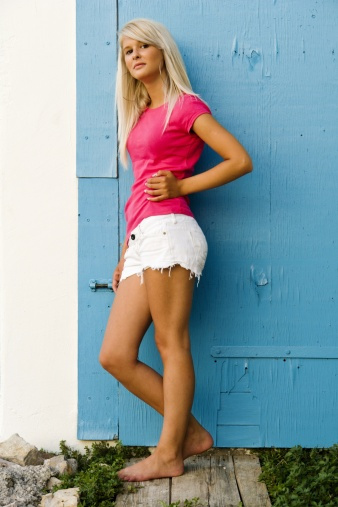em pe: (95, 3, 237, 499)
